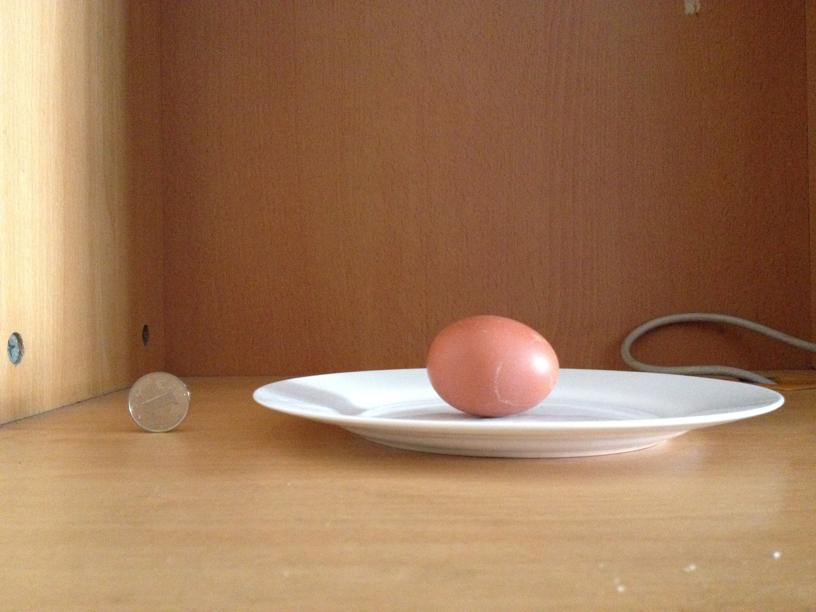coin: (125, 372, 191, 432)
egg: (422, 316, 559, 415)
